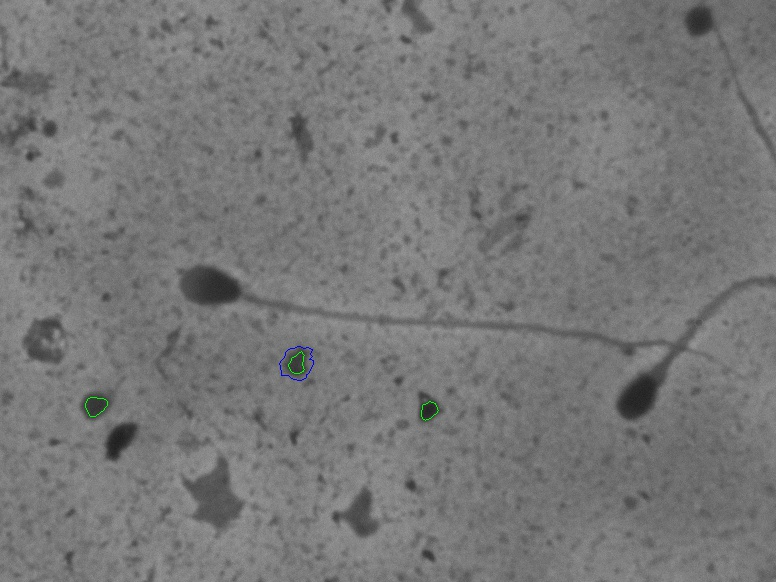Normal: (168, 254, 758, 392)
